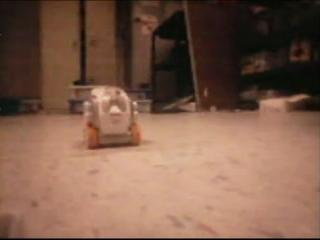cozmo: (81, 84, 142, 148)
